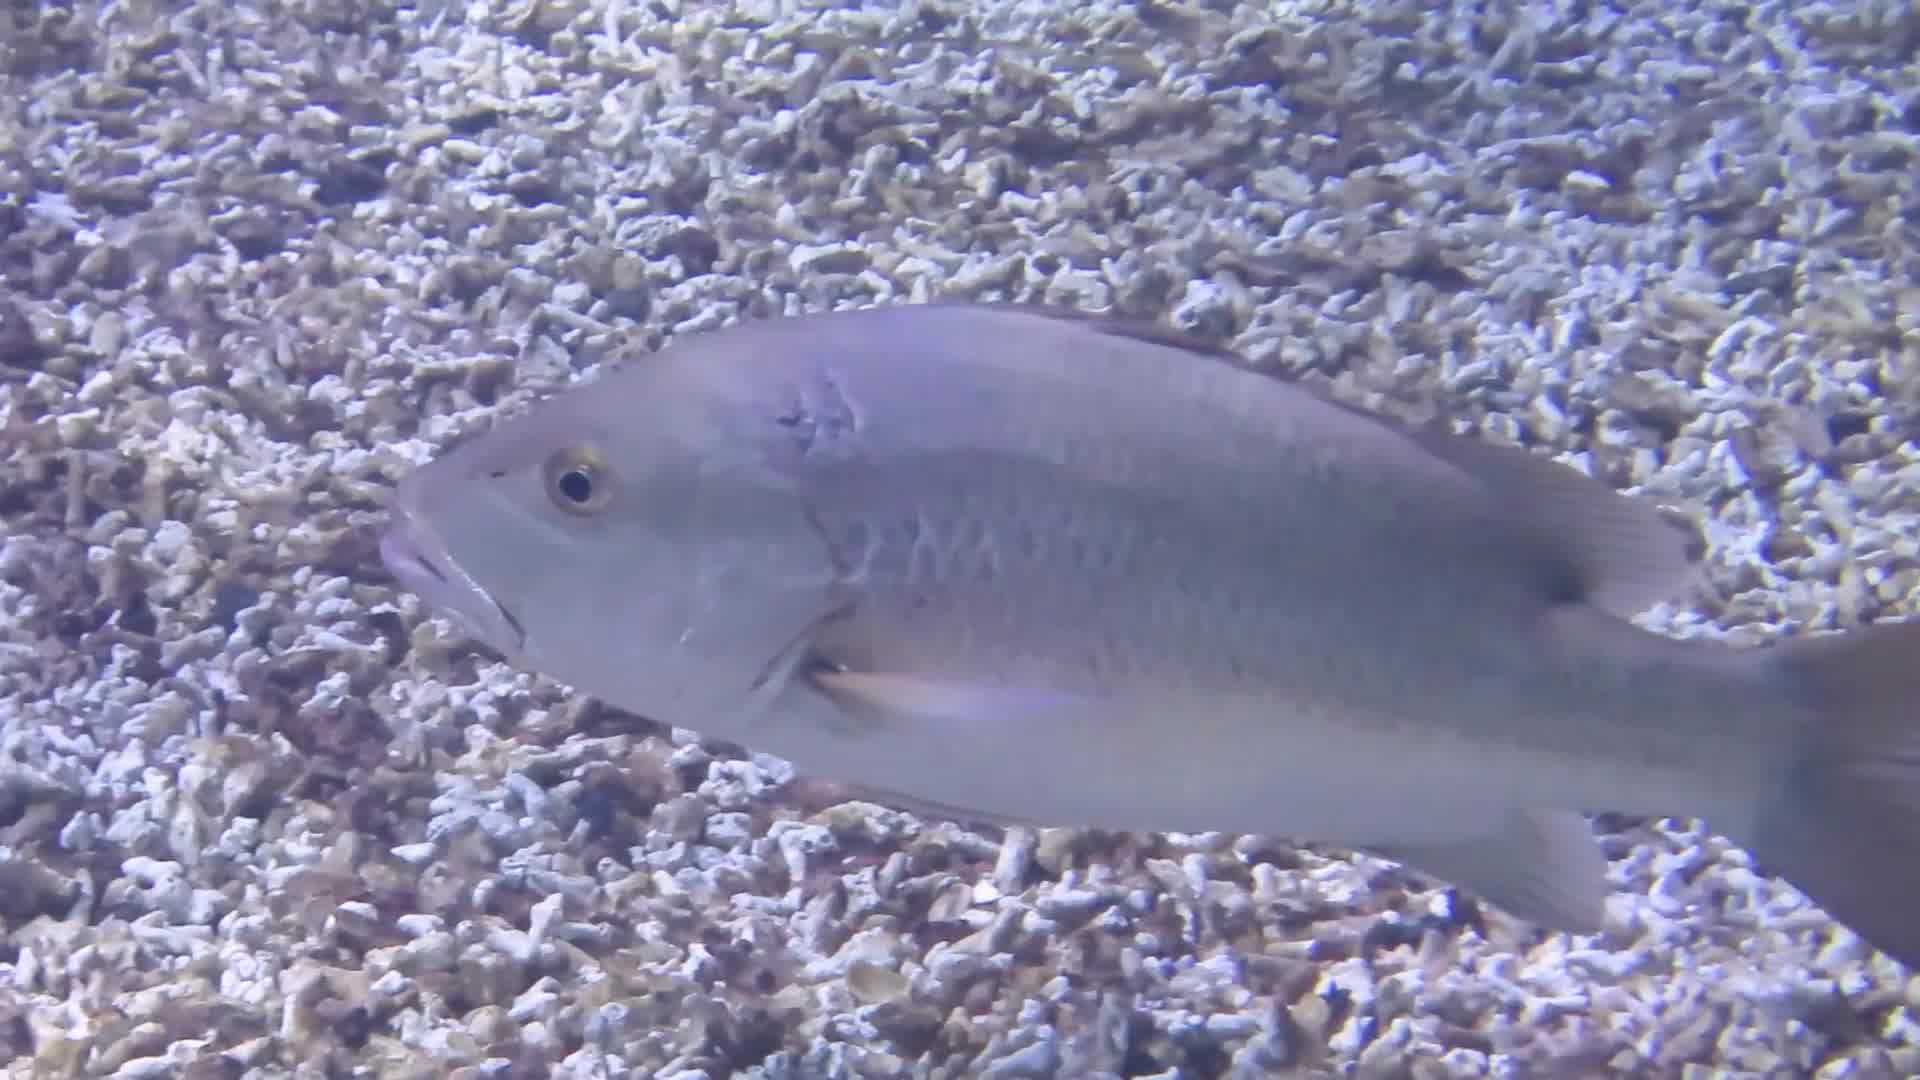Lutjanus argentimaculatus: (386, 318, 1795, 949)
